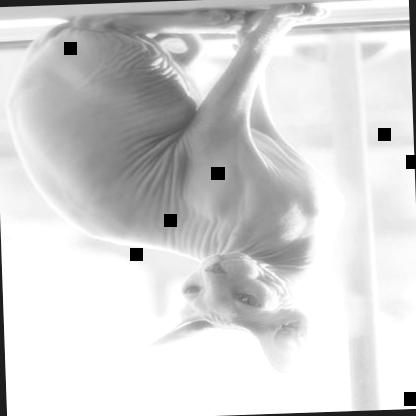cat: (1, 0, 346, 382)
